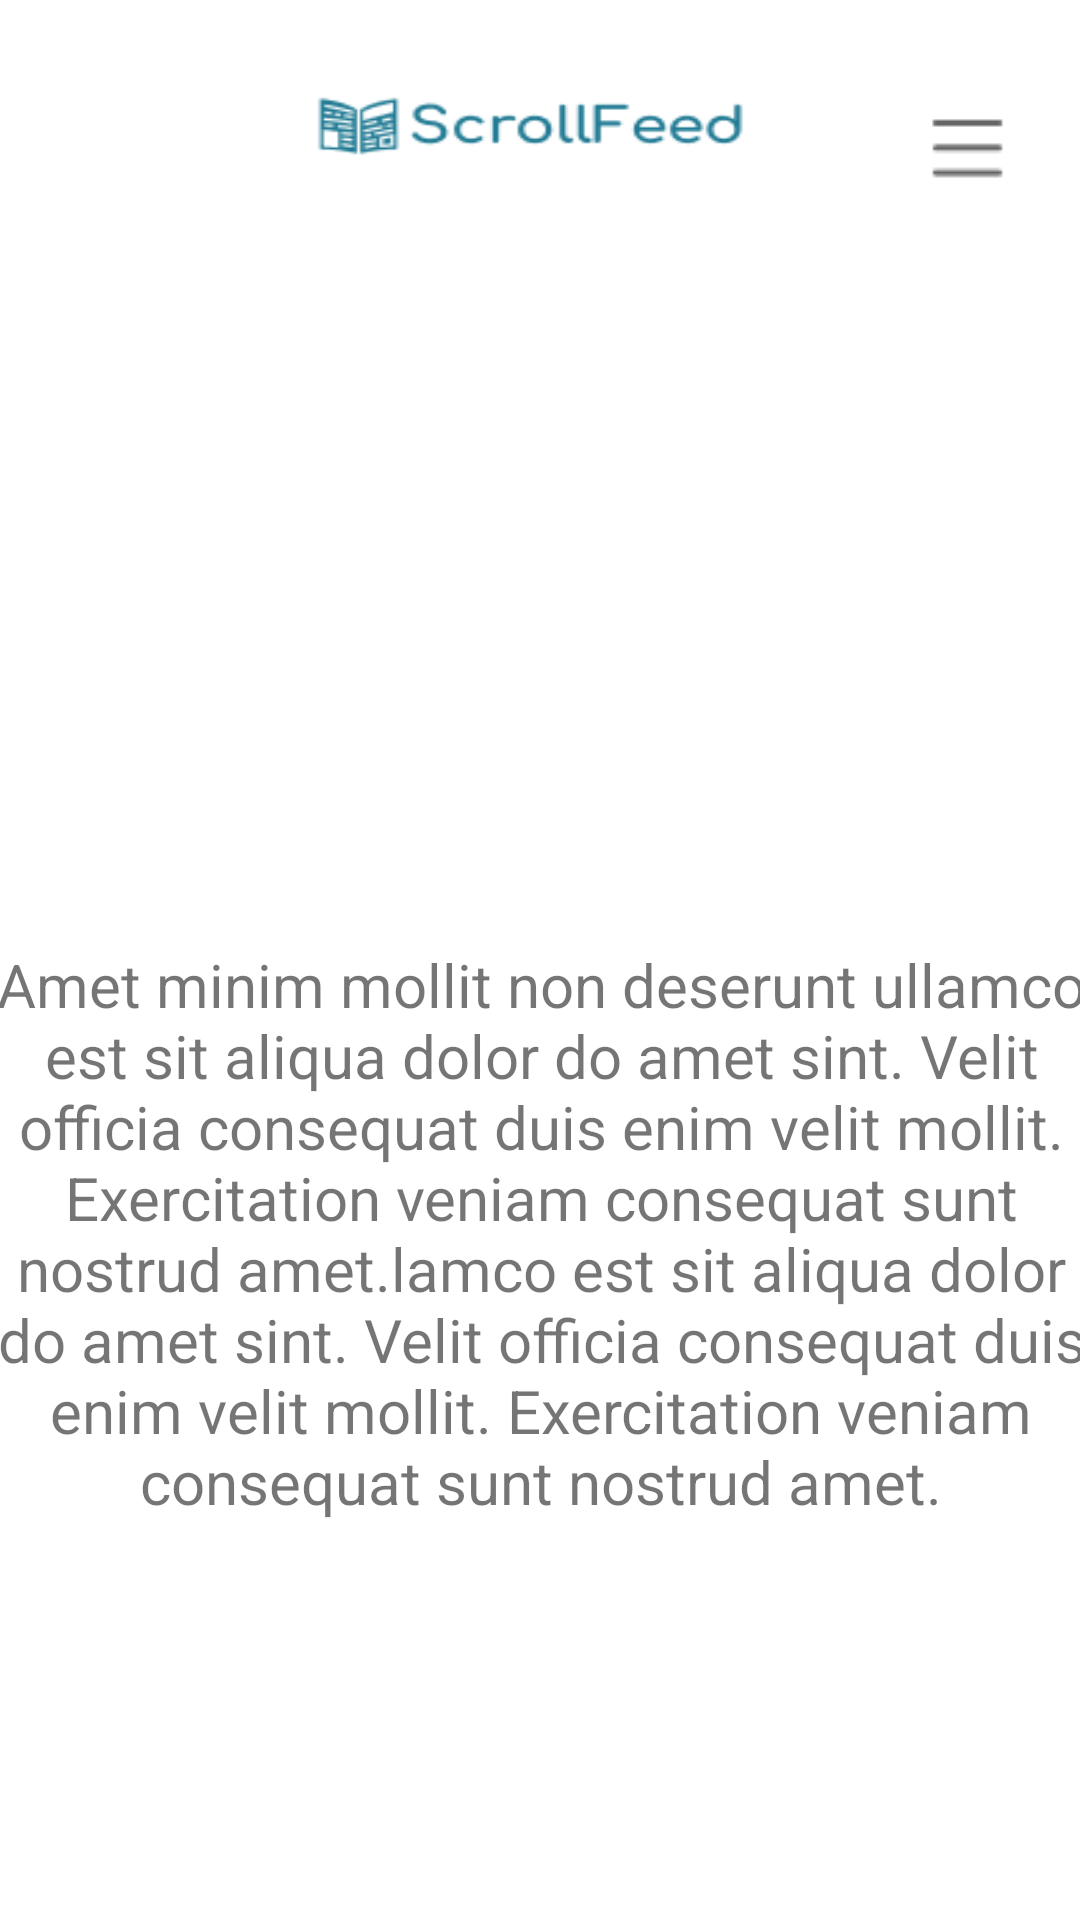

Where icons sit on this 1080w x 1920h app screen, as region(x1, y1, x2, y2):
menu: region(932, 119, 1003, 178)
